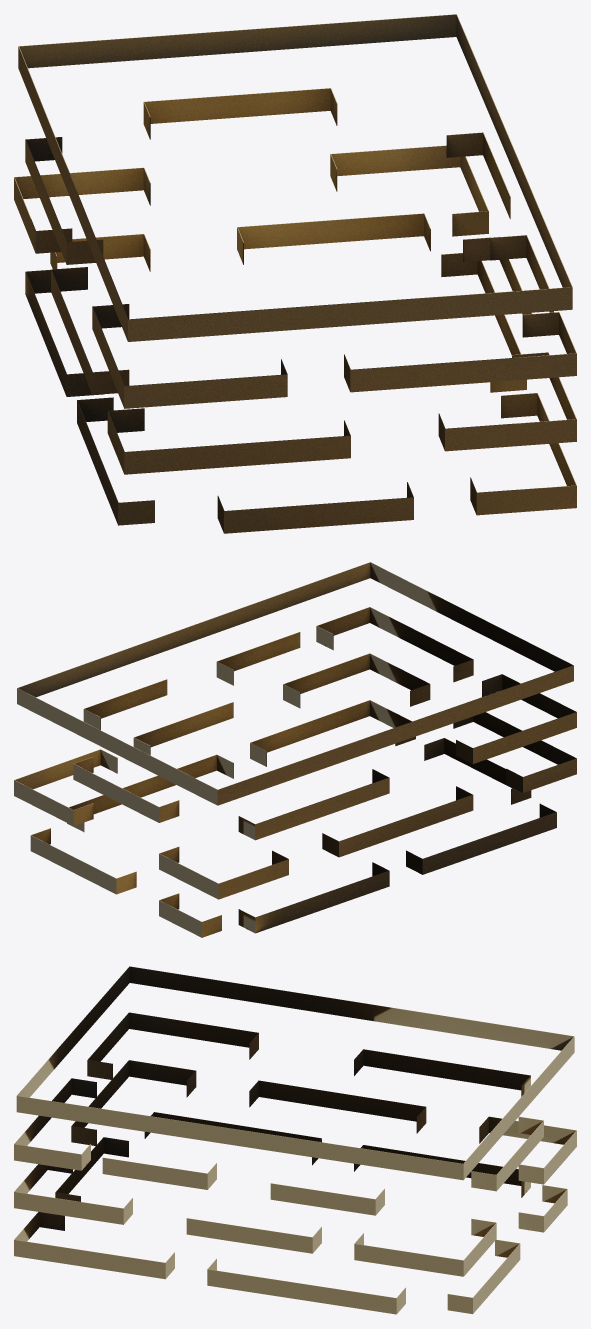
Rendered from Balustrade_07.fbx.
The picture shows the model from 3 angles, top to bottom: view 1: azimuth 30°, elevation 25°; view 2: azimuth 150°, elevation 25°; view 3: azimuth 270°, elevation 25°; orthographic projection. The views are drawn at different scales.
Parts seen in each view (by area): view 1: Balustrade_07; view 2: Balustrade_07; view 3: Balustrade_07.
Boxes of the visible parts, box(x1,y1,x2,y2) form: Balustrade_07: box(14, 14, 576, 533); Balustrade_07: box(14, 562, 576, 937); Balustrade_07: box(14, 966, 576, 1314).
Size of the model in its own units: 26.46 by 9.8 by 31.39.
Materials: 1 (1 with a texture image).
